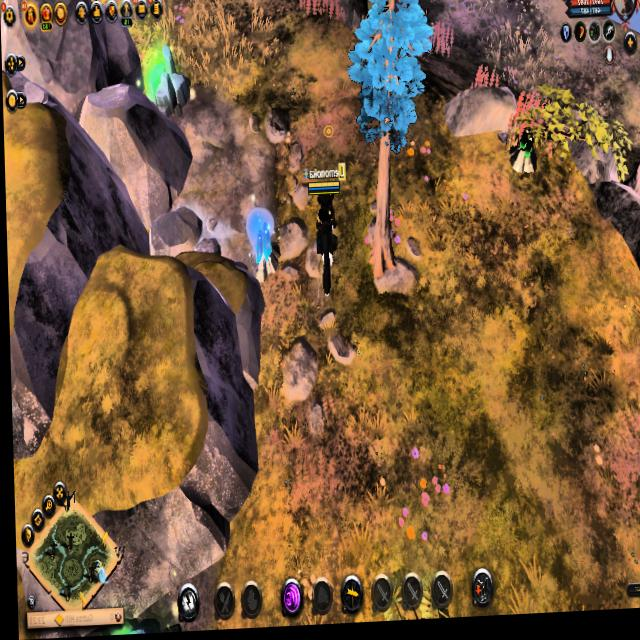ore tier 3: (507, 133, 538, 181)
ore tier 4: (248, 219, 280, 287)
wood tier 4: (344, 0, 436, 161)
